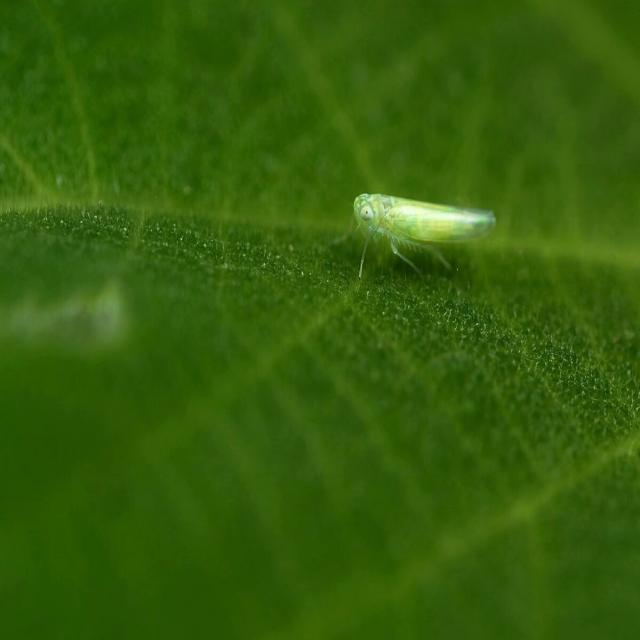Yechan: (351, 191, 496, 269)
